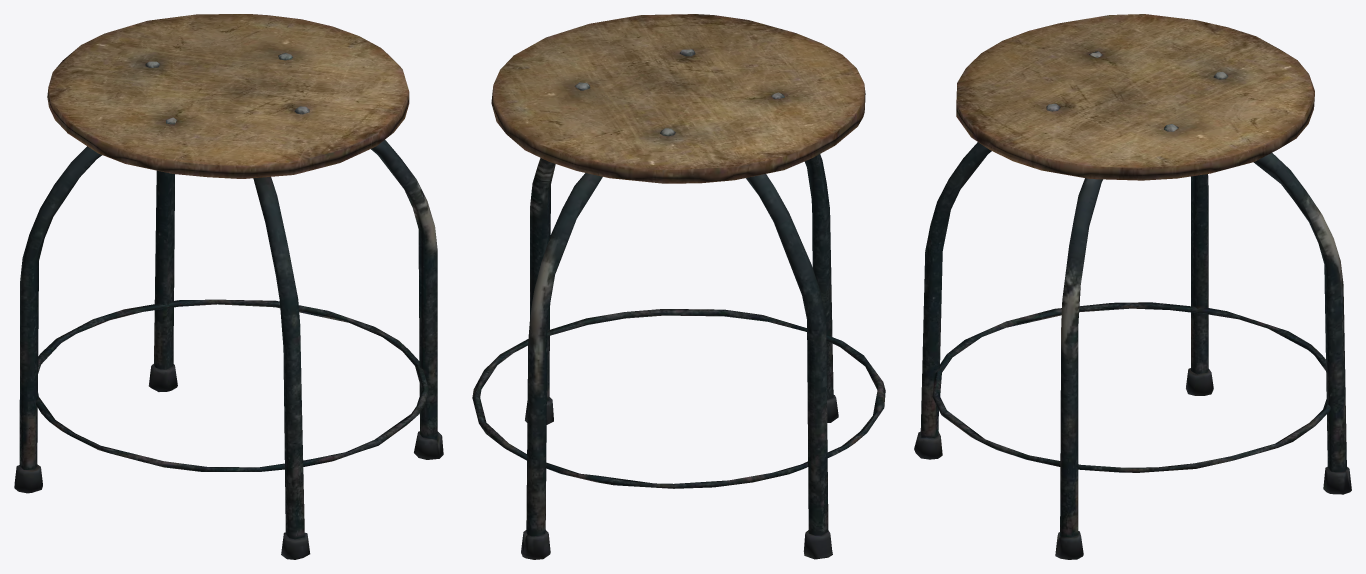
The model's file is metal_stool_02.glb.
The picture shows the model from 3 angles, left to right: view 1: azimuth 30°, elevation 25°; view 2: azimuth 150°, elevation 25°; view 3: azimuth 270°, elevation 25°; orthographic projection. The views are drawn at different scales.
Parts seen in each view (by area): view 1: metal_stool_02; view 2: metal_stool_02; view 3: metal_stool_02.
Boxes of the visible parts, <box> form: metal_stool_02: <box>14,14,443,559</box>; metal_stool_02: <box>472,14,885,559</box>; metal_stool_02: <box>914,14,1351,559</box>.
Bounding box in the file's own units: 0.4474 × 0.4571 × 0.4722.
Materials: 1 (1 with a texture image).
